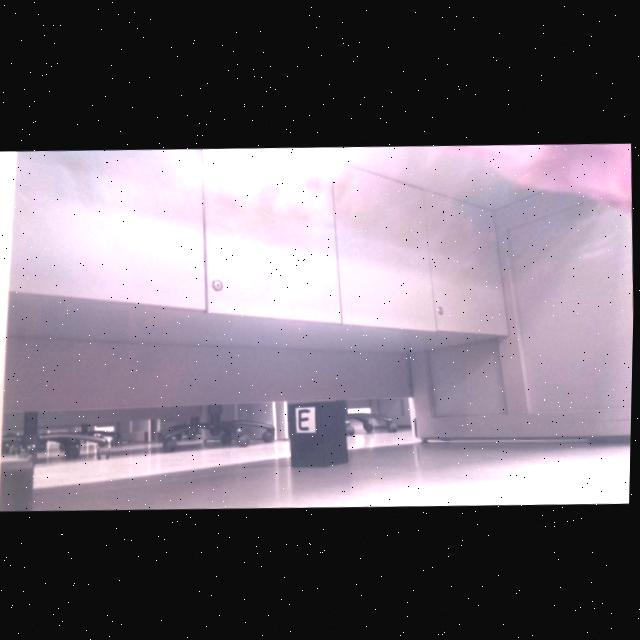E: (301, 407, 311, 429)
